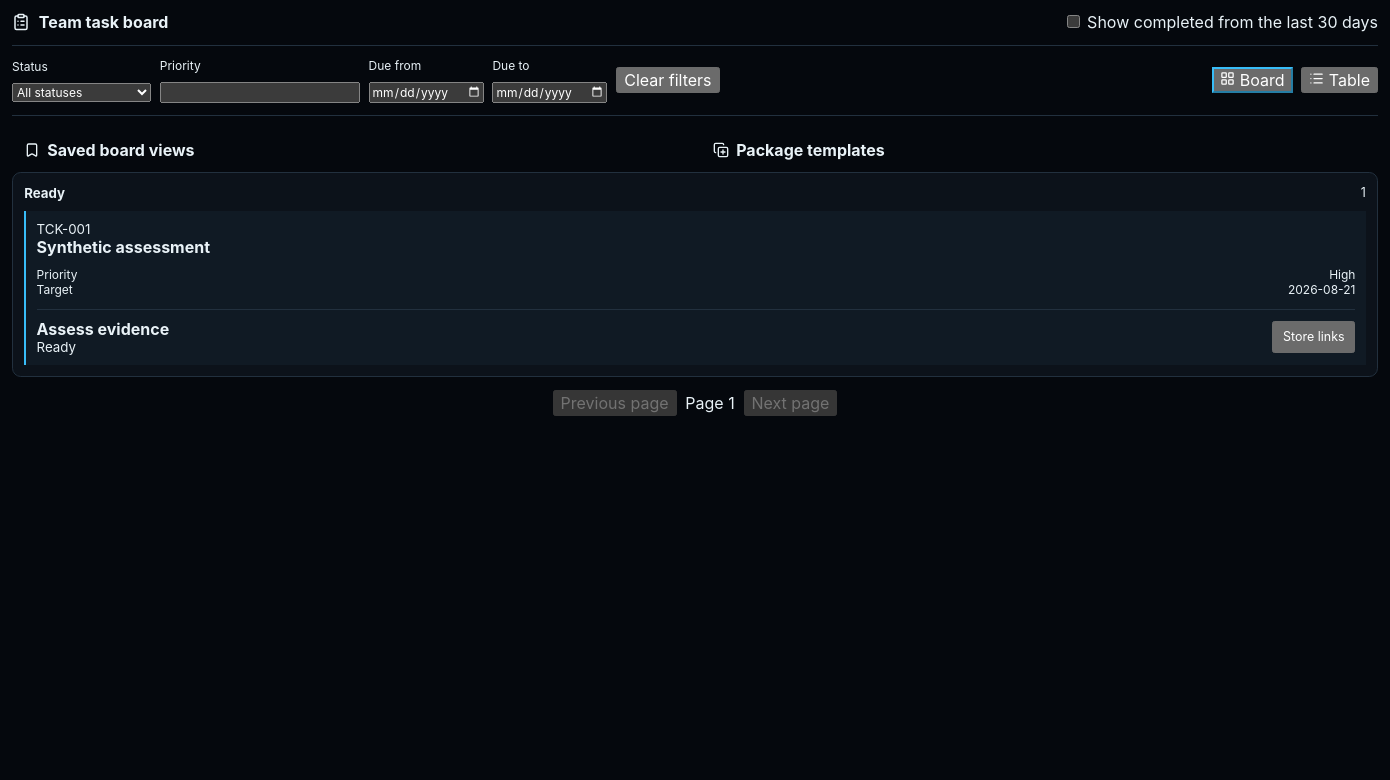
Test case: a package opens and closes its Intelligence Store links in place
What coordinates should you click on to do the following:
click the button "Store links"
I would click on:
 (1314, 337)
Its box is [1272,321,1355,353].
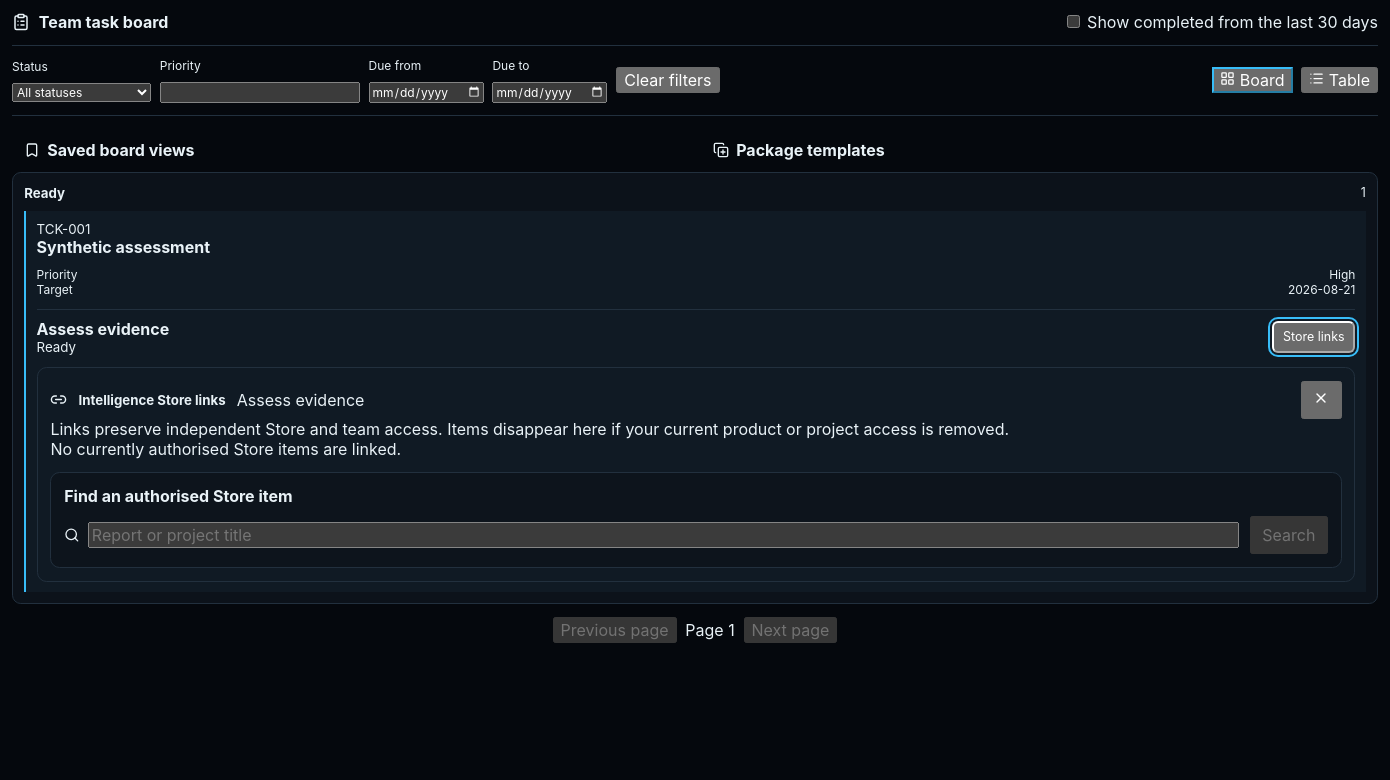
Now the heading "Intelligence Store links" is shown, box [79,392,226,408]
Now the text "No currently authorised Store items are linked." is shown, box [50,439,401,459]
What coordinates should you click on to do the following:
click the button named "Close Intelligence Store links"
I would click on:
 (1321, 400)
Its box is [1301,380,1342,419].
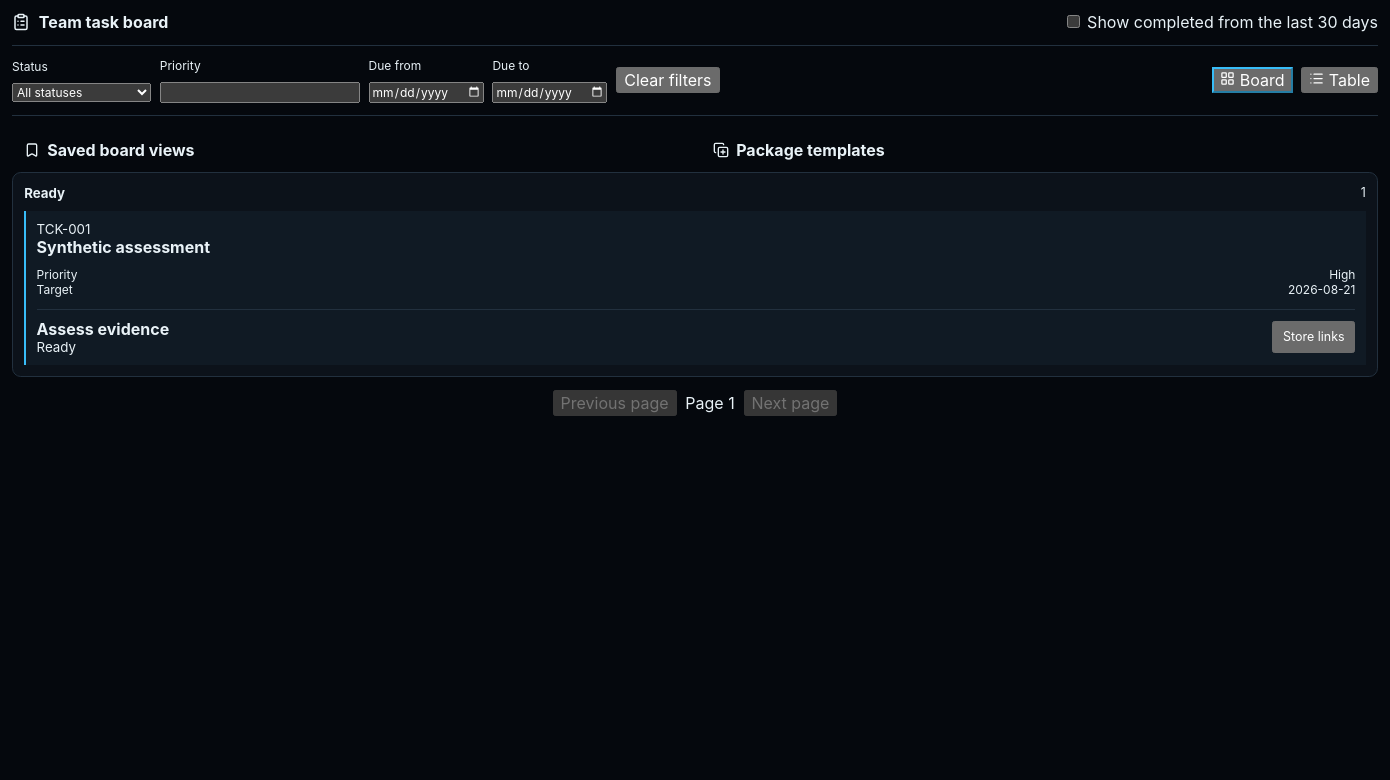
Now the heading "Intelligence Store links" is gone
